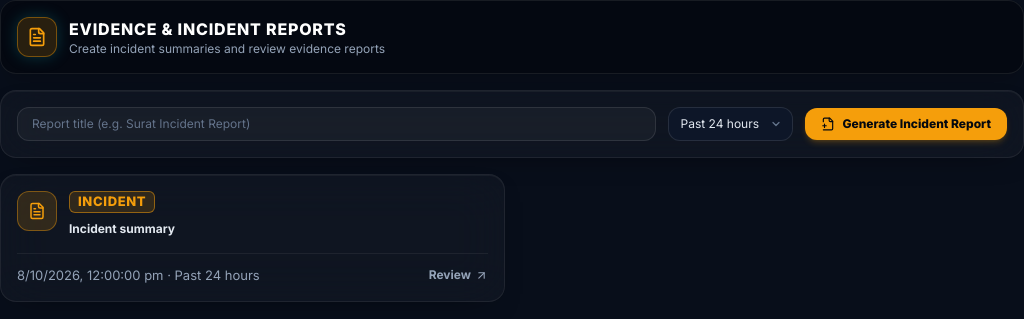
Scenario: shows a short failure message and lets the officer try again
The image size is (1024, 319).
What coordinates should you click on to do the following:
click the button "Generate Incident Report"
I would click on:
 (906, 124)
Its box is [804,108,1007,140].
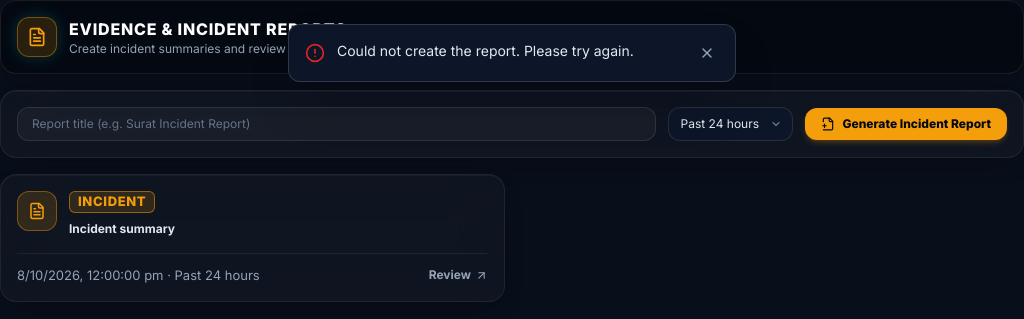
Check: the message reads "Could not create the report. Please try again.", box [337,42,634,59]
What coordinates should you click on to do the following:
click the button "Generate Incident Report"
I would click on:
 (906, 124)
Its box is [804,108,1007,140].
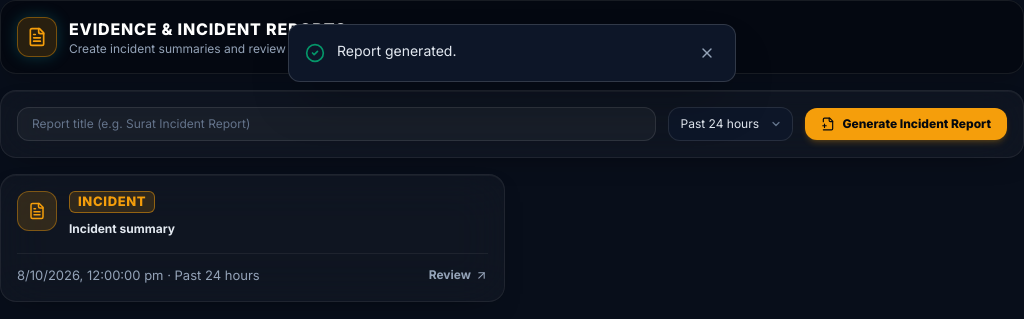
Check: the message reads "Report generated.", box [337,42,456,59]
